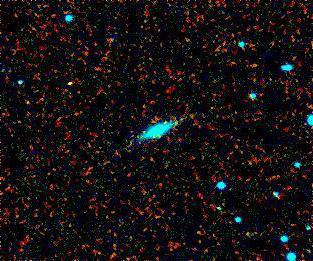star: (166, 105, 196, 135)
